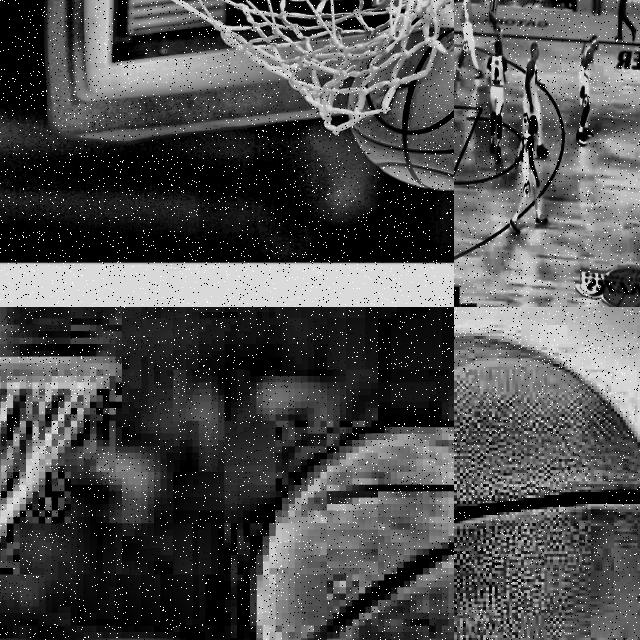Basketball: (250, 427, 454, 640), (352, 28, 454, 189)
